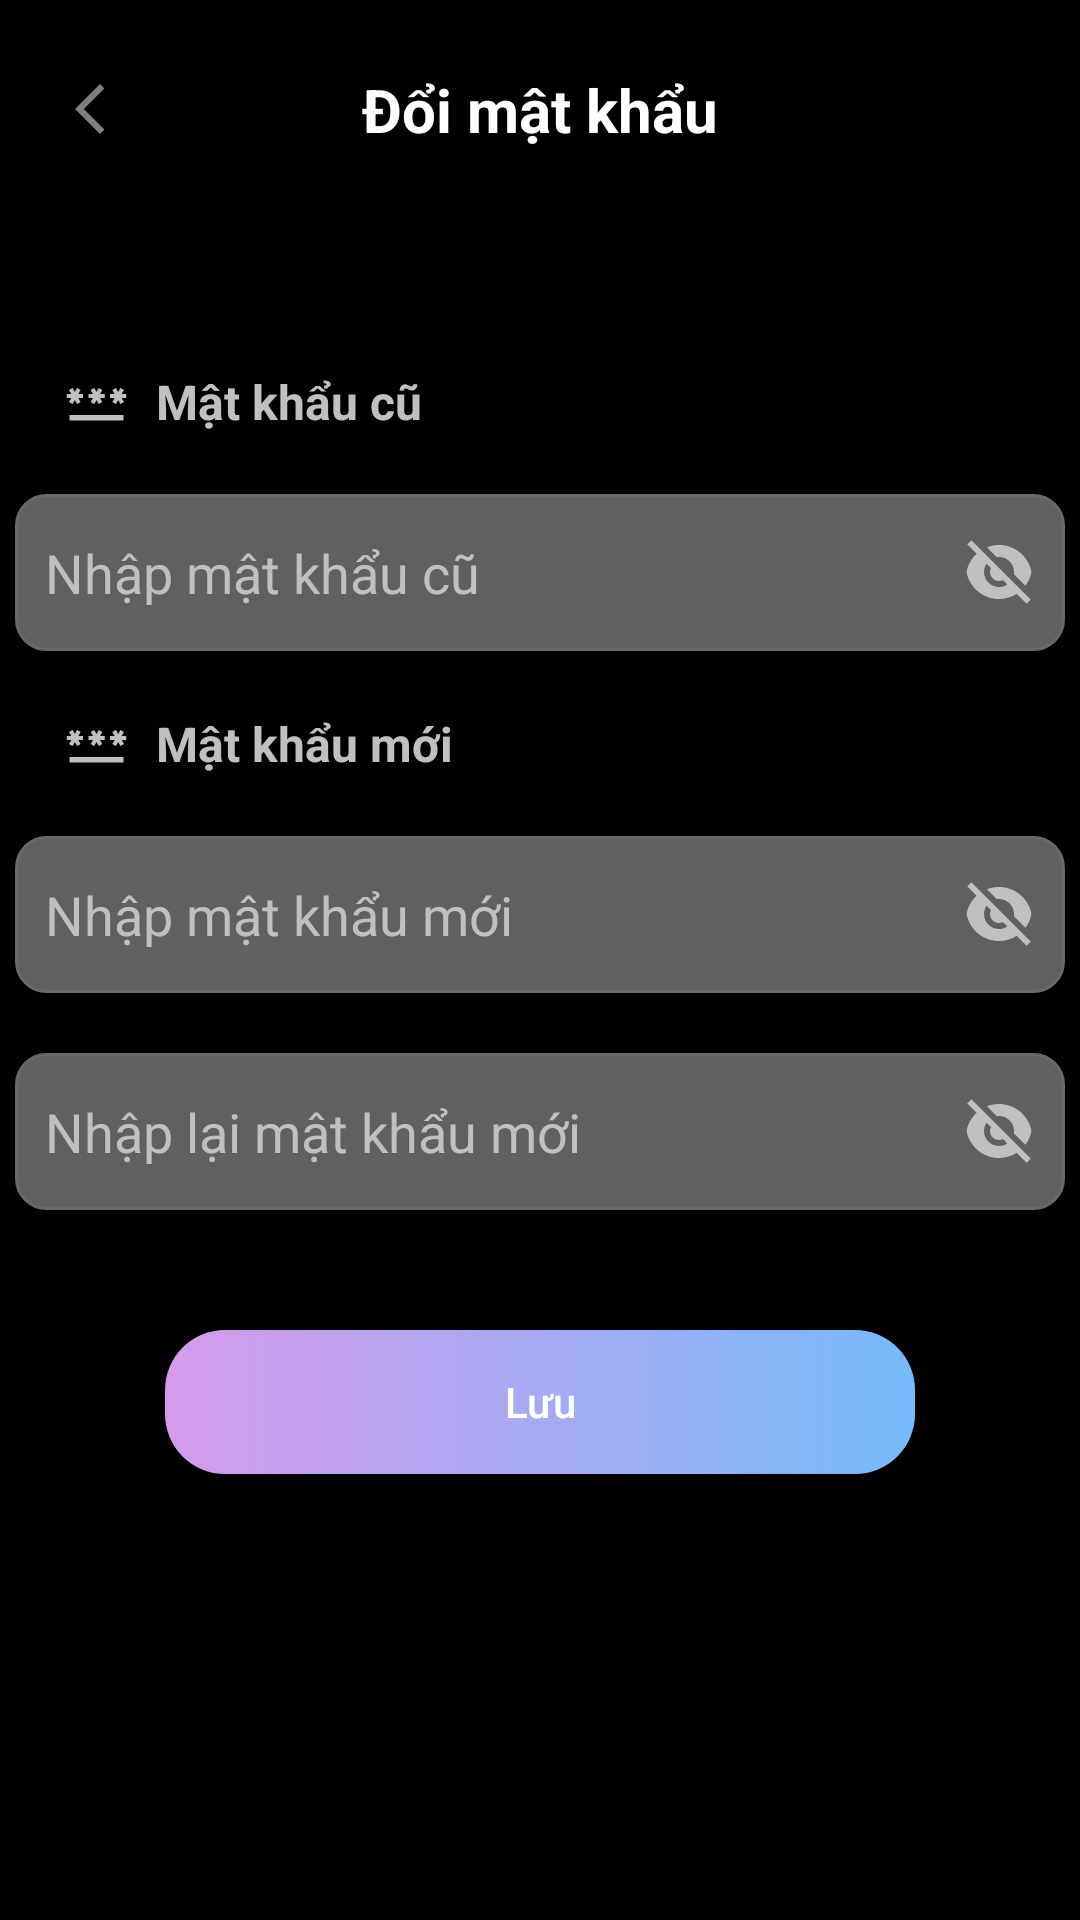

Icon click points for this 1080px x 1920px phone screenshot, format (x=x, y=y):
back: (x=89, y=109)
password: (x=96, y=404), (x=96, y=746)
